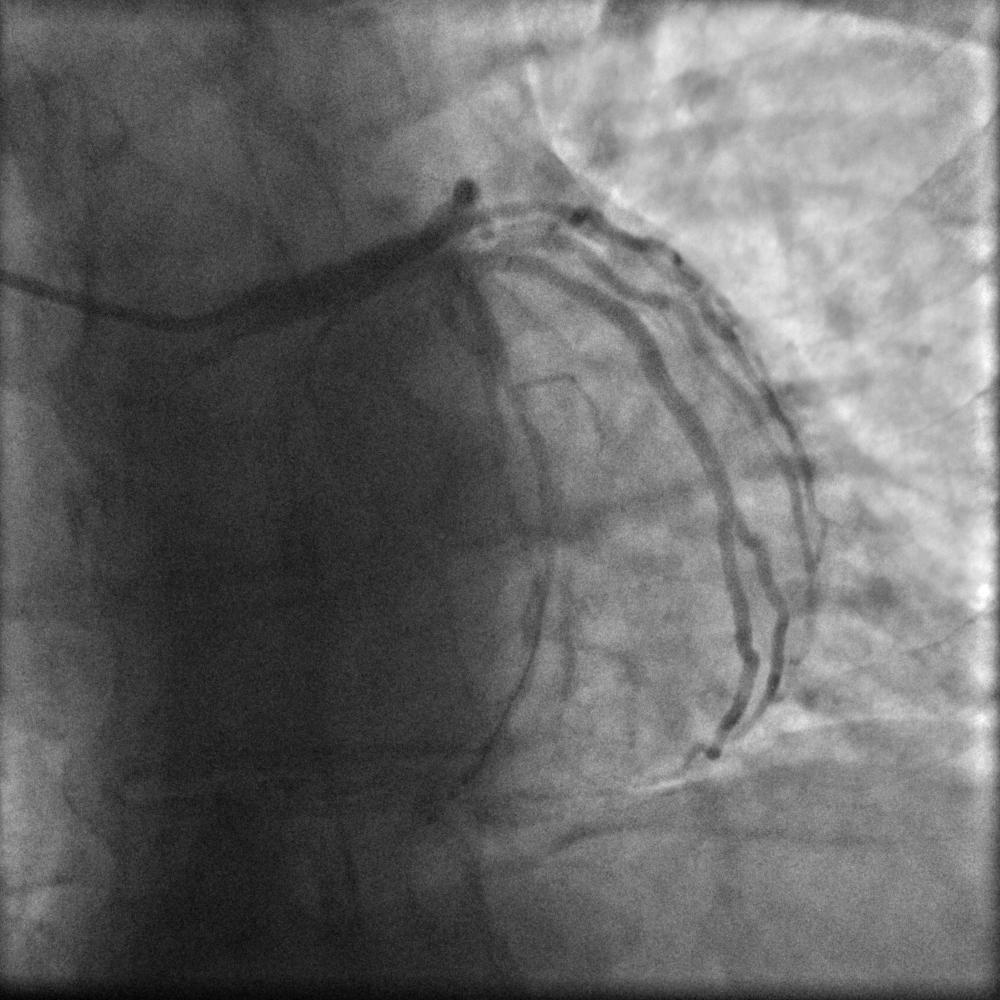Stenosis: (502, 372, 540, 449)
